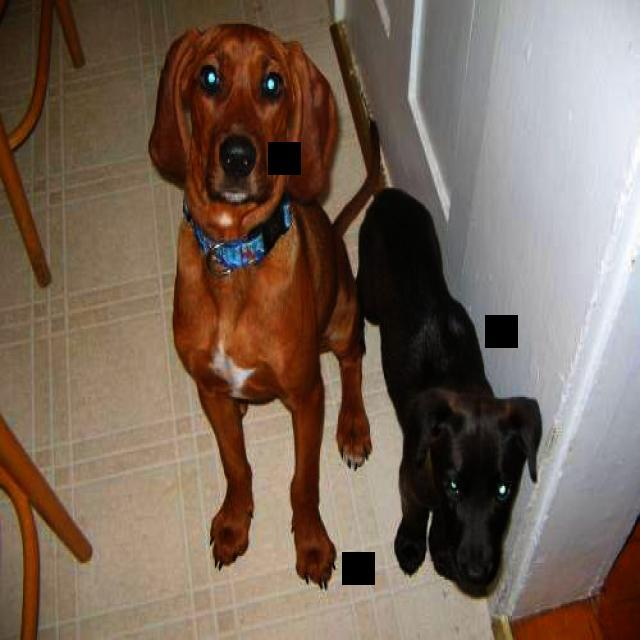adult_dog: (143, 20, 384, 591)
puppy-dog: (355, 186, 544, 600)
